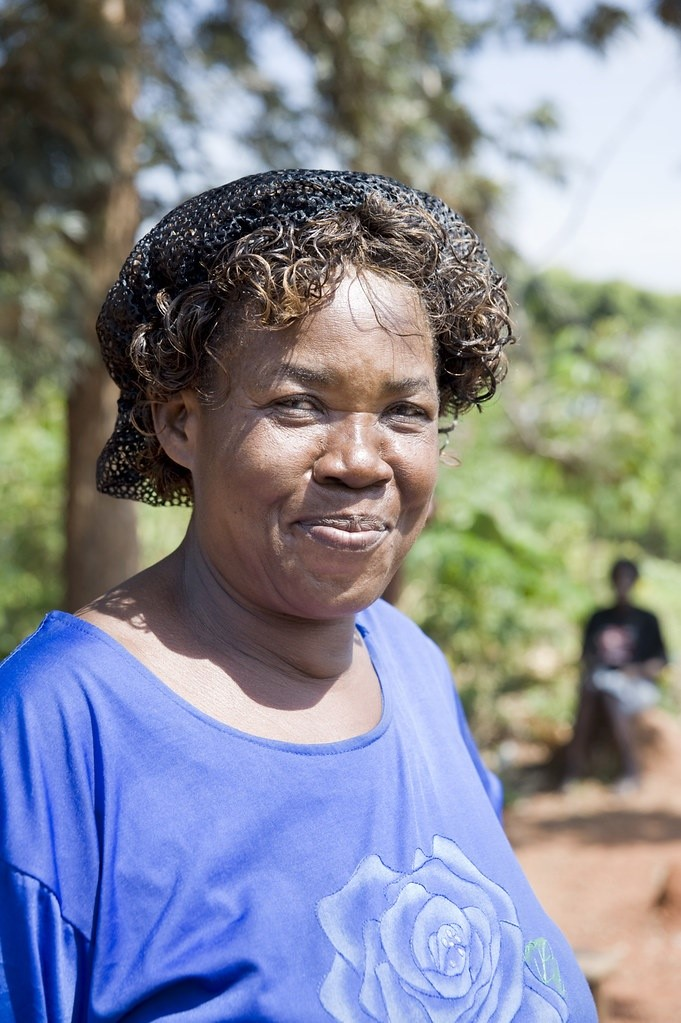face_no_mask: (185, 224, 442, 623)
